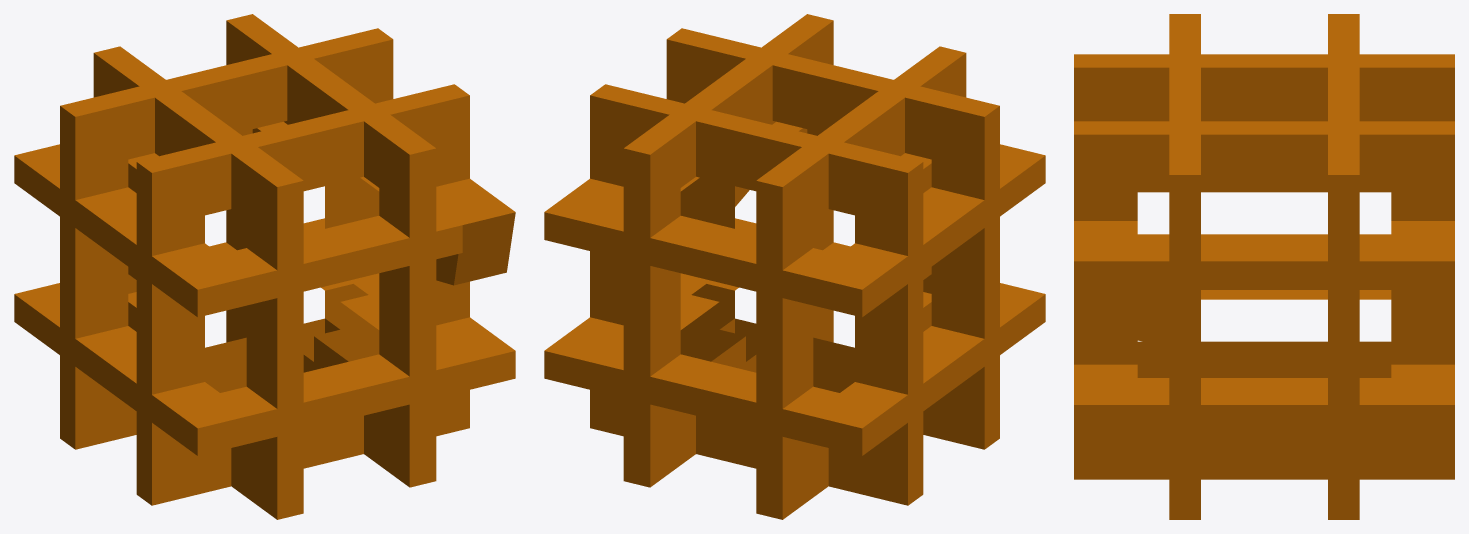
The picture shows the model from 3 angles, left to right: view 1: azimuth 30°, elevation 25°; view 2: azimuth 150°, elevation 25°; view 3: azimuth 270°, elevation 25°; orthographic projection. The views are drawn at different scales.
Parts seen in each view (by area): view 1: Box012; view 2: Box012; view 3: Box012.
Part boxes in pixels (x1,y1,x2,y2): Box012: [14, 14, 515, 519]; Box012: [544, 14, 1045, 519]; Box012: [1074, 14, 1454, 519].
Bounding box in the file's own units: 120 × 120 × 120.
